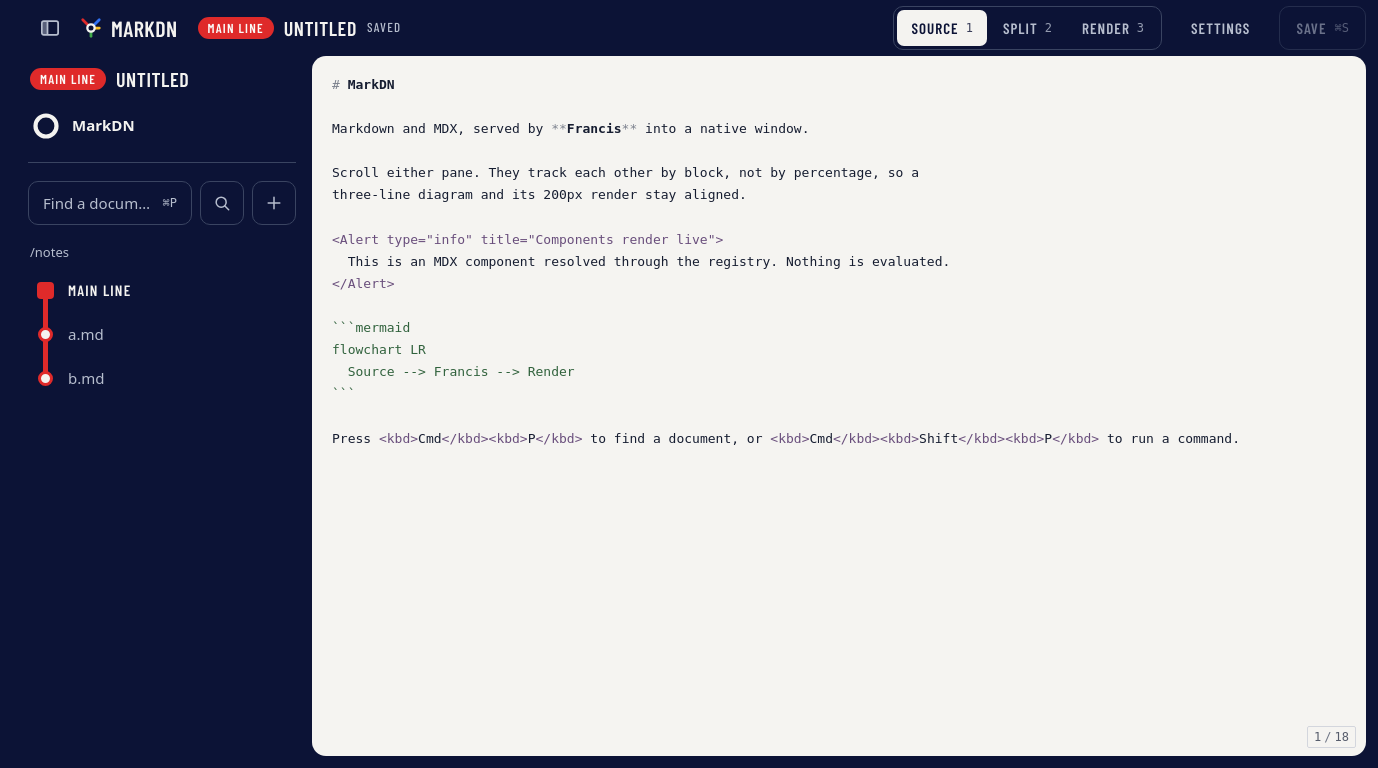
Test: the sidebar › collapses from its button and comes back, remembering the choice
Expected: the list named "Documents" is shown, [68,281,131,388]
Click the button named "Hide sidebar" at point(50, 28), box [28,6,72,50]
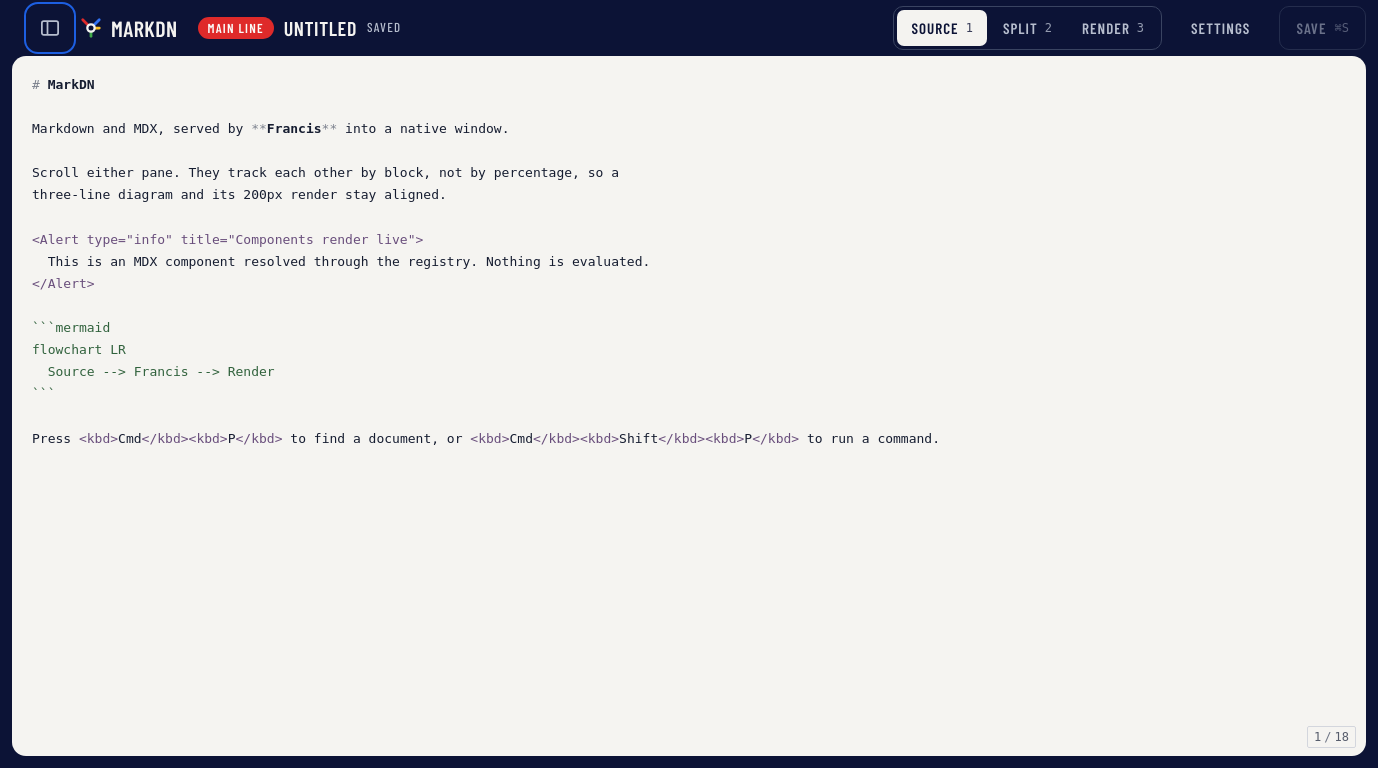
Expected: the button named "Show sidebar" is collapsed
Click the button named "Show sidebar" at point(50, 28), box [28,6,72,50]
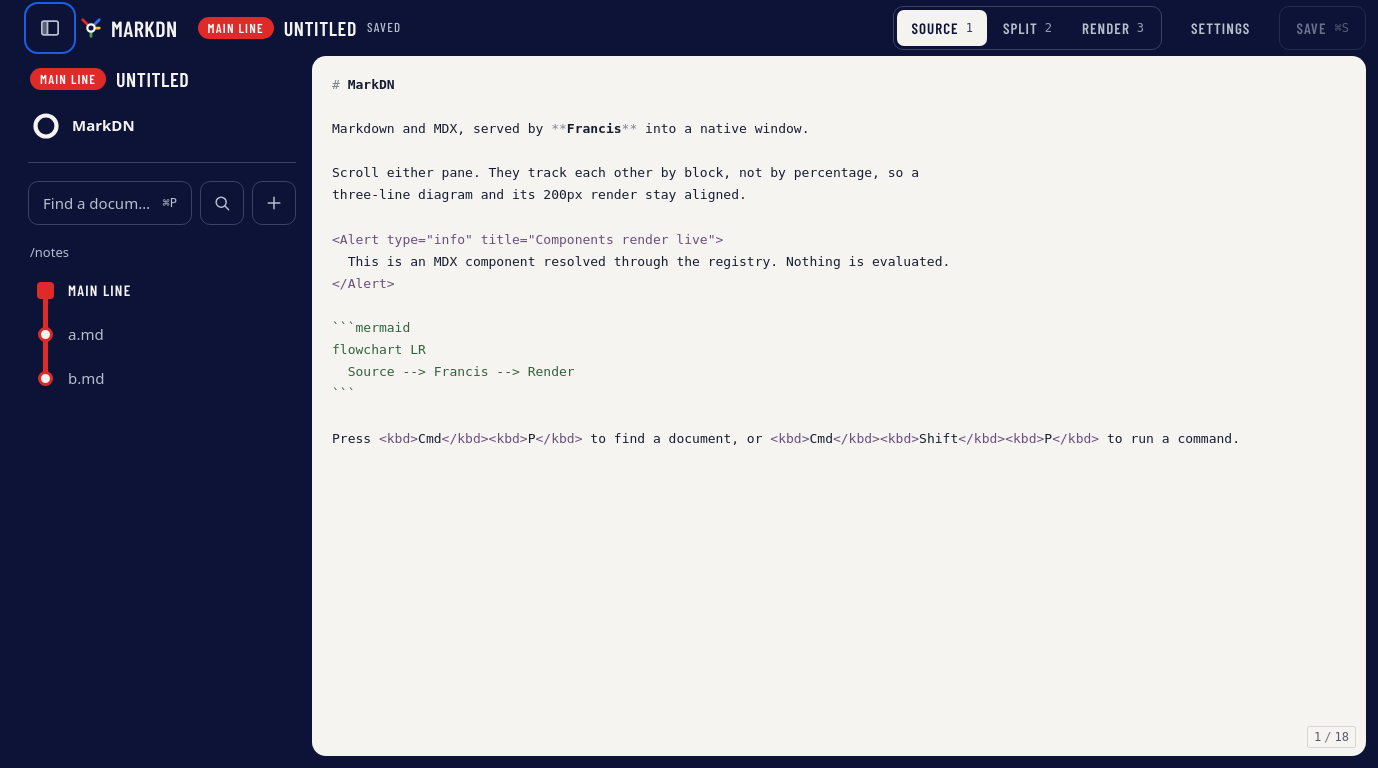
Expected: the list "Main line a.md b.md" is shown, [68,281,131,388]
